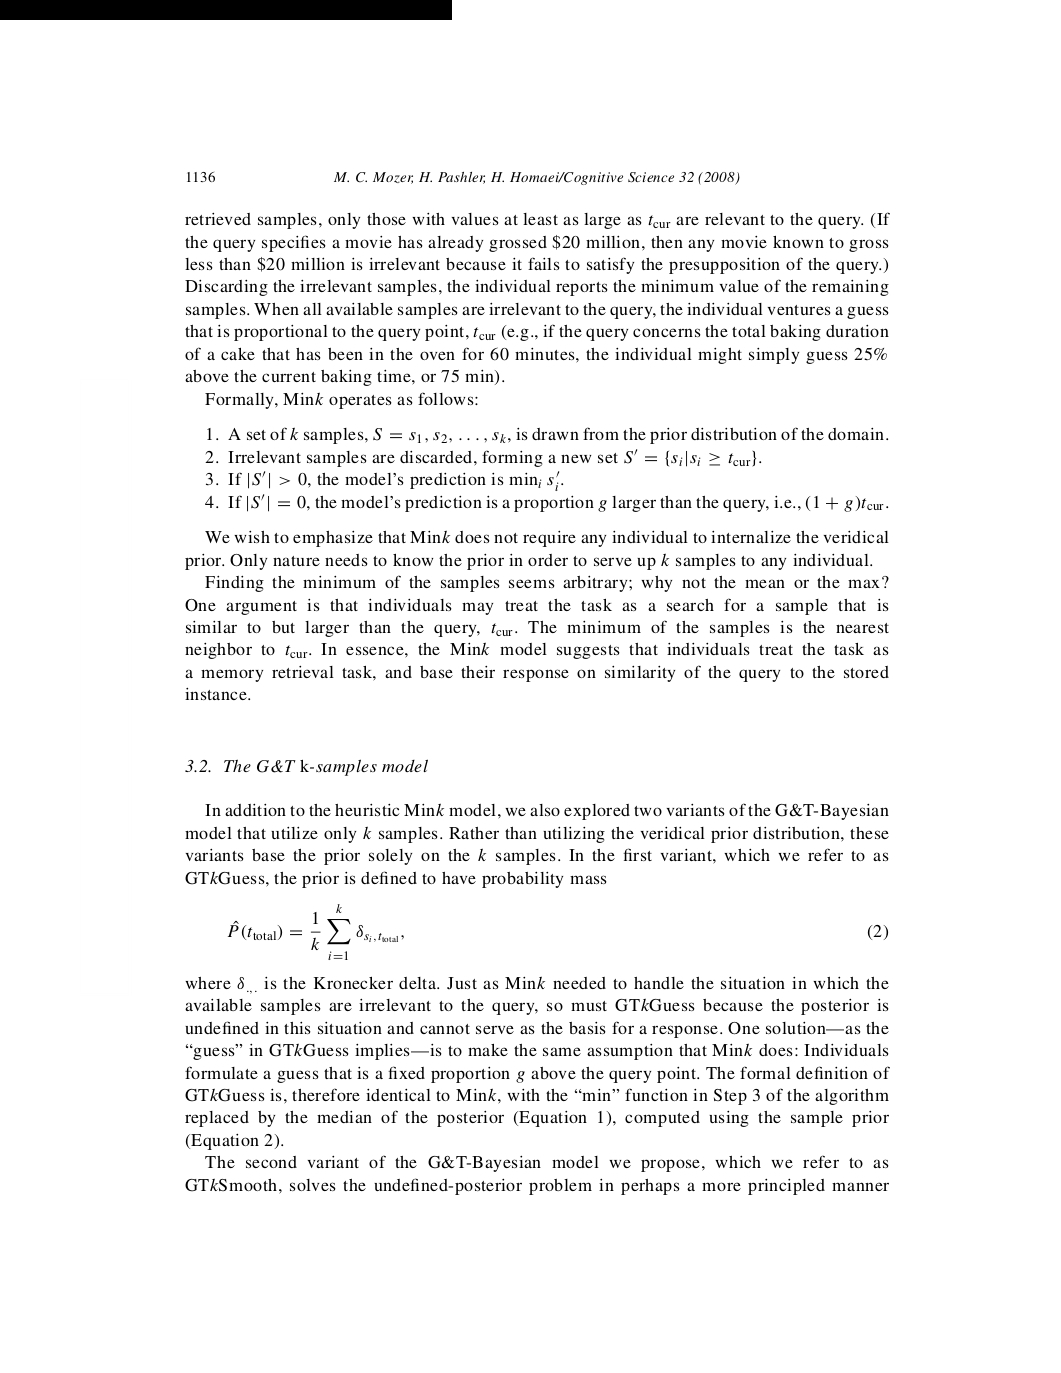formula: (227, 903, 888, 960)
